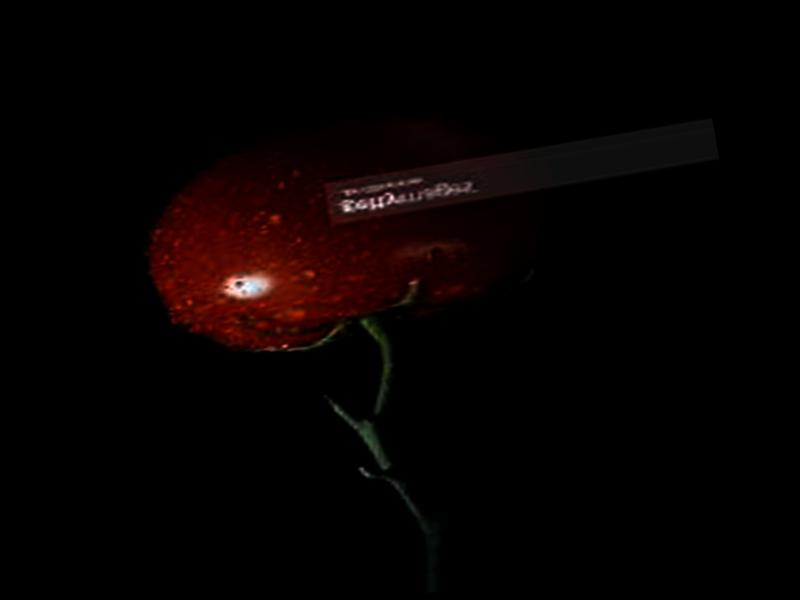Tomato: (132, 96, 551, 366)
